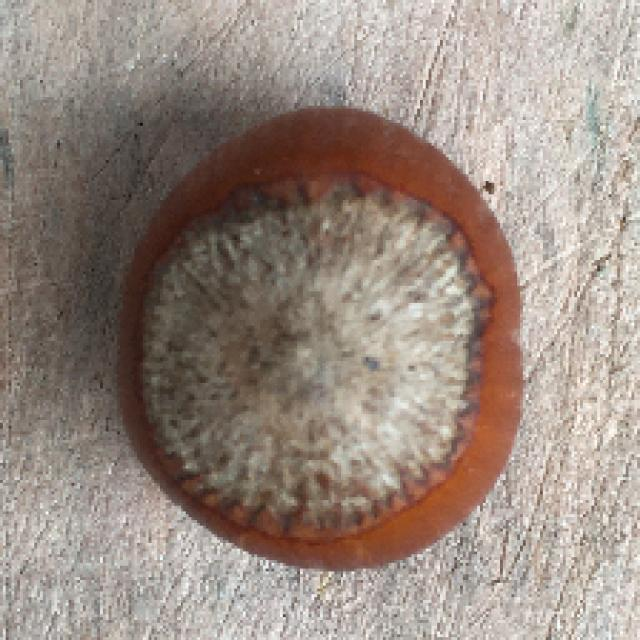qualityHazelnut: (103, 91, 530, 580)
